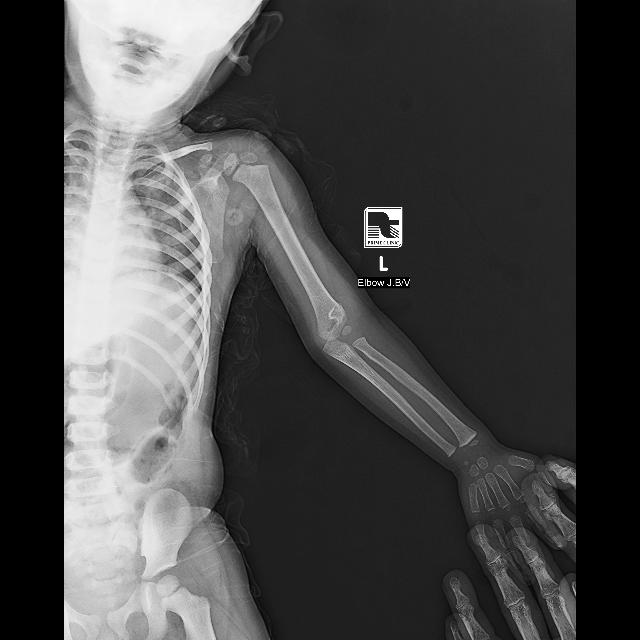Fracture: (328, 300, 350, 336)
